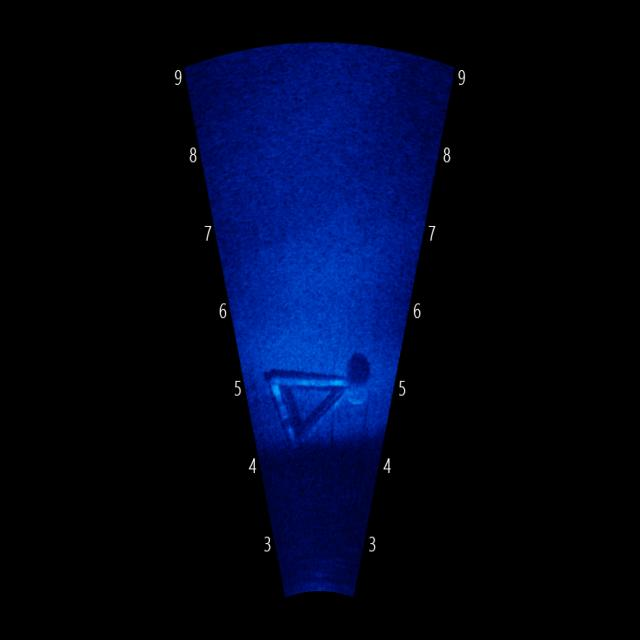triangle: (259, 352, 360, 456)
